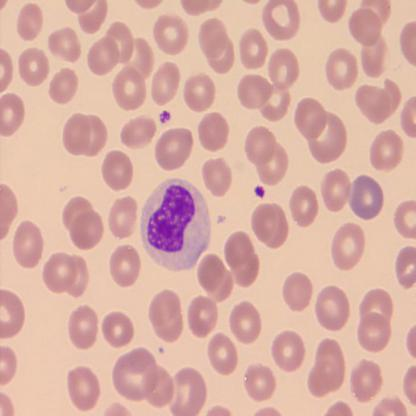Metamyelocyte: (138, 175, 212, 274)
